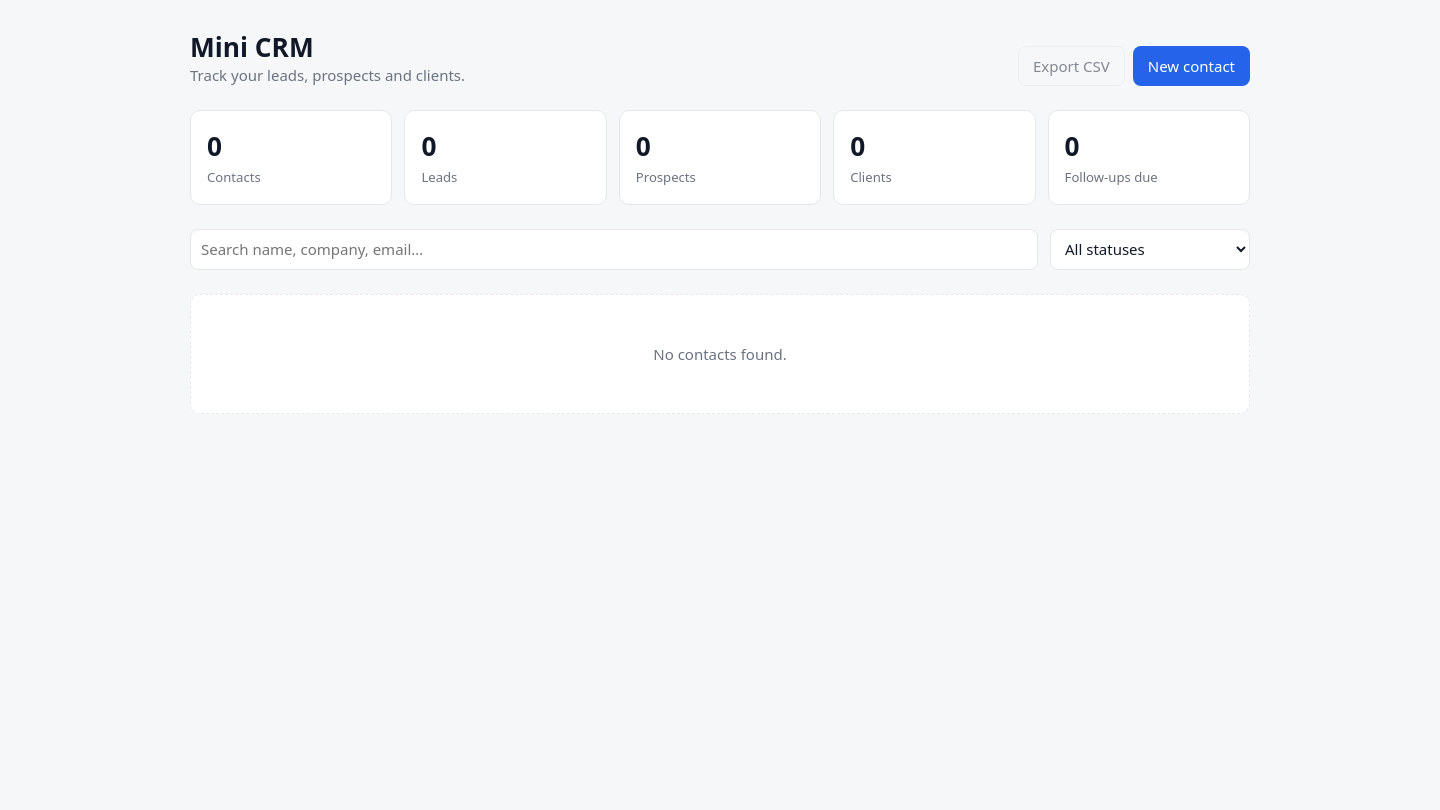
App › adds a contact and persists it
The image size is (1440, 810).
Click the button "New contact": (1191, 66) [1133,46,1250,86]
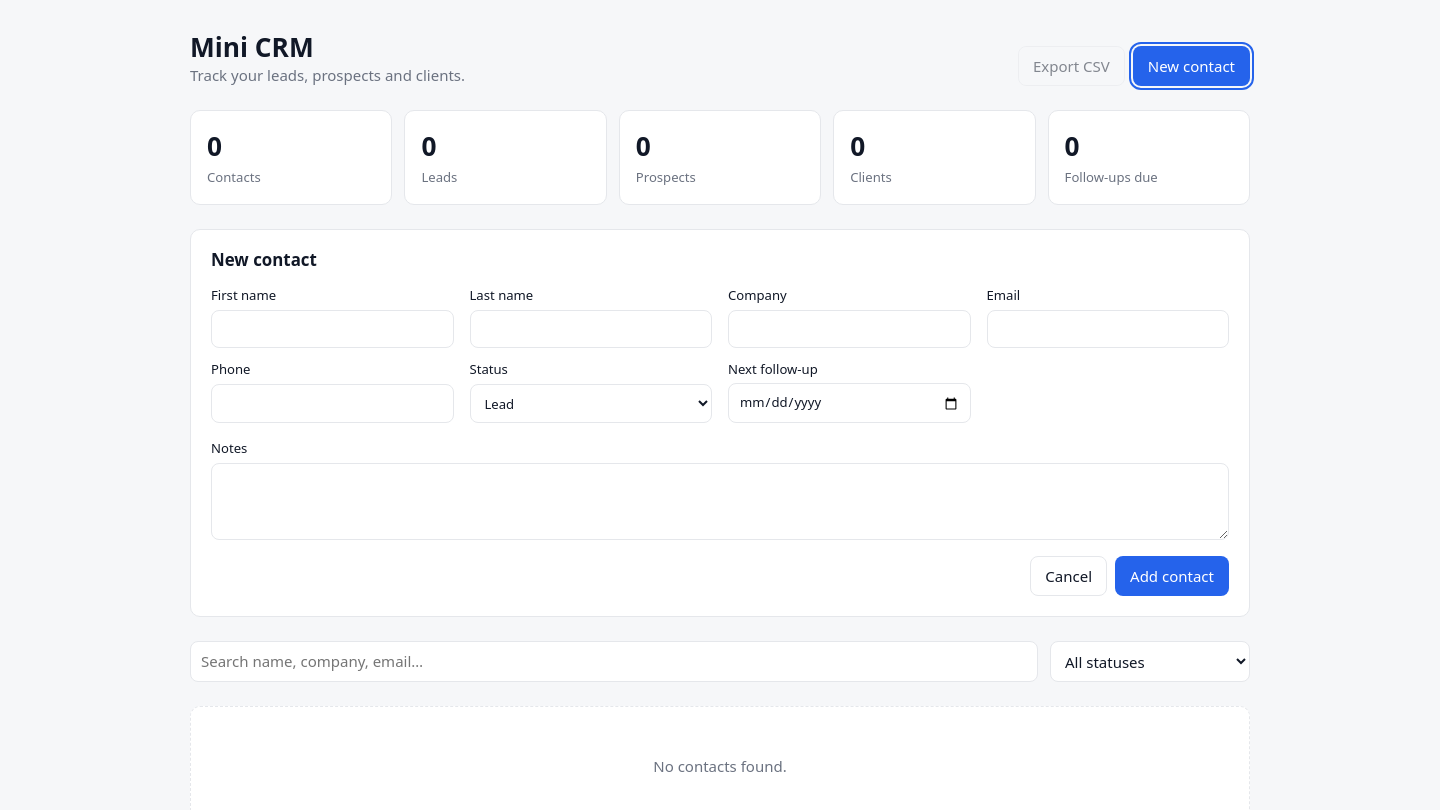
In the field labelled "First name": (332, 329) [211,310,454,348], type "Paul"
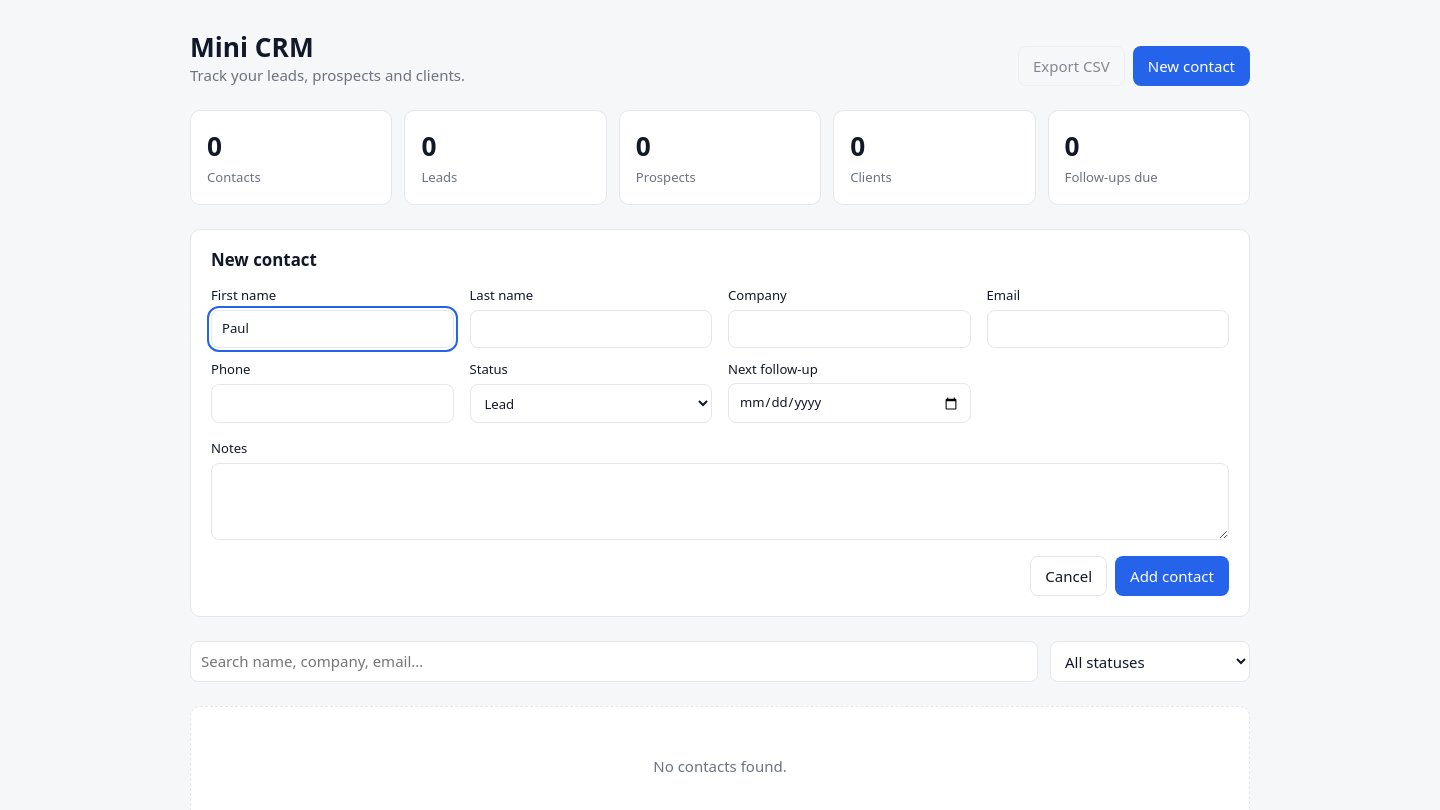
In the field labelled "Last name": (591, 329) [470,310,712,348], type "Martin"
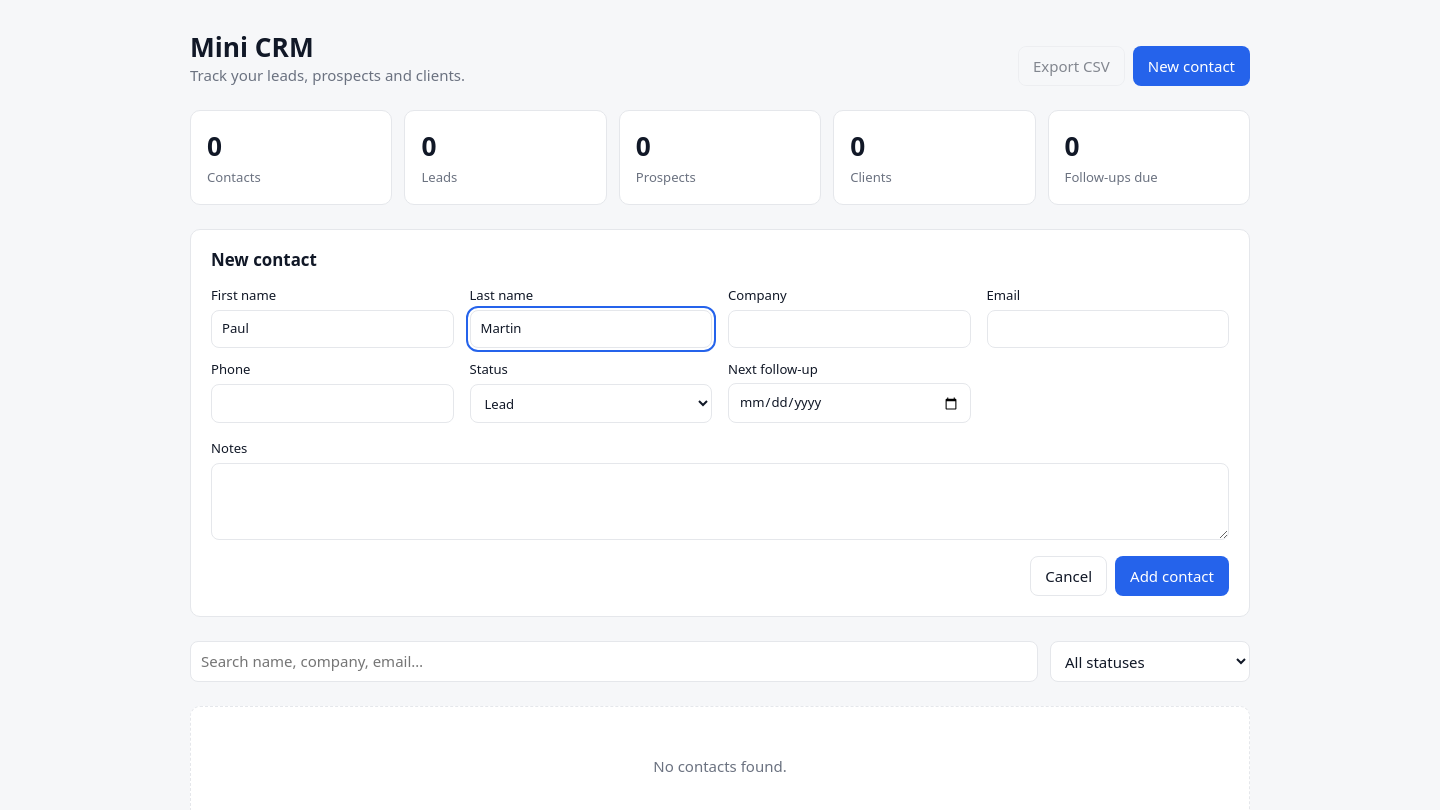
In the field labelled "Company": (849, 329) [728,310,970,348], type "Garage Martin"
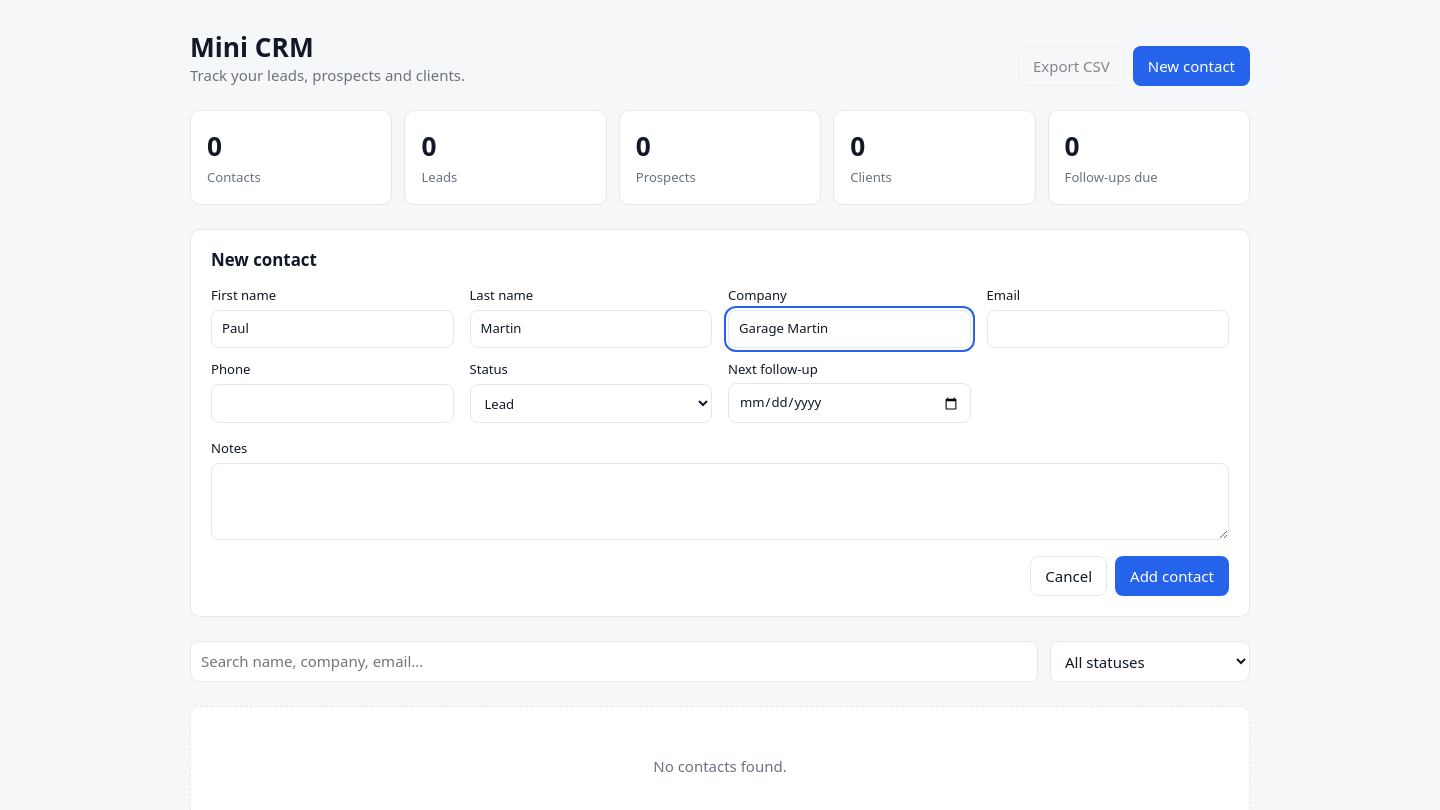
Click the button "Add contact": (1172, 576) [1115,556,1229,596]
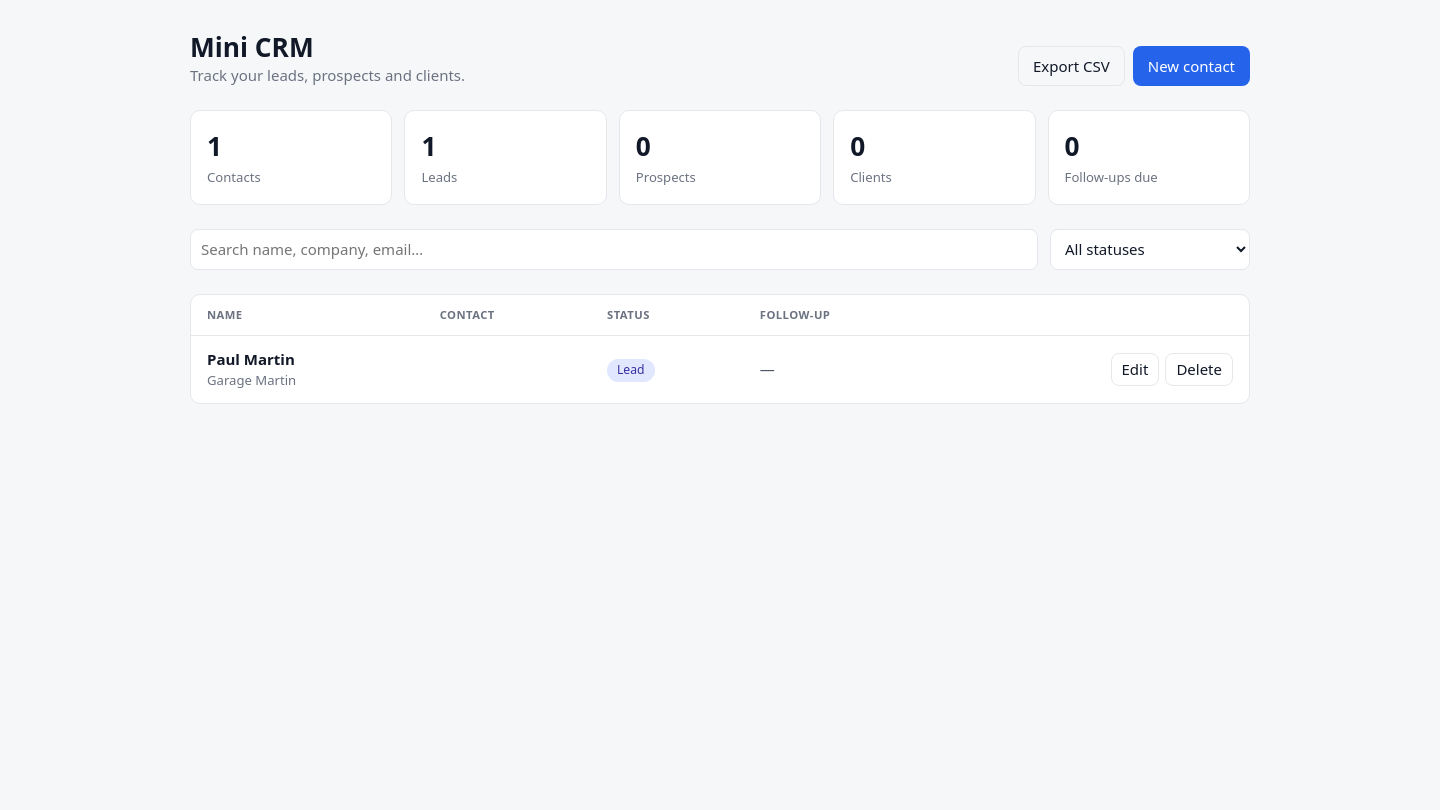
Result: the cell "Paul Martin Garage Martin" is shown at [191,336,424,403]
